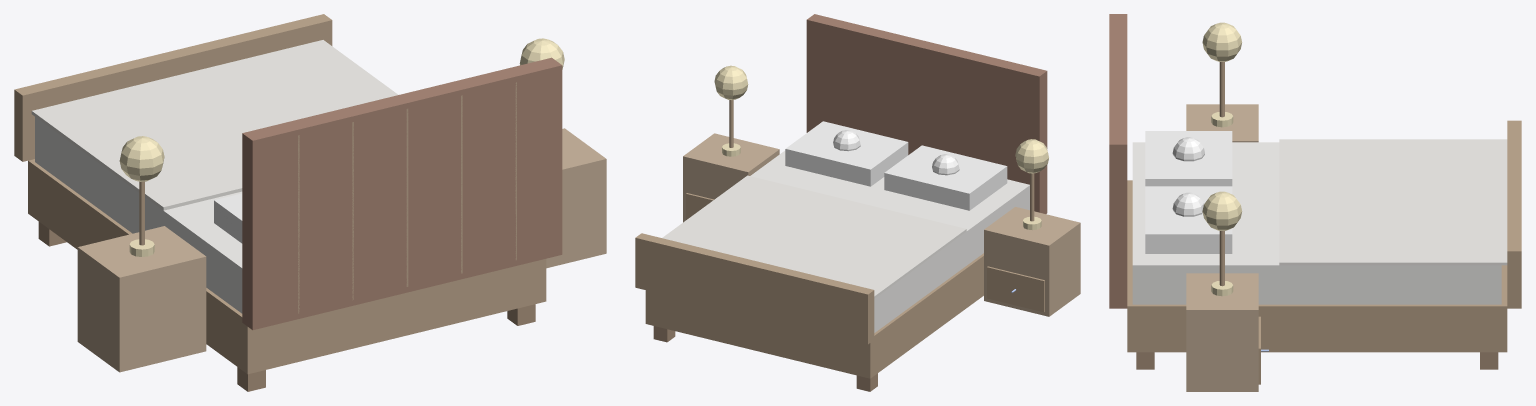
File: bed.glb
3 views of the same model, side by side, from view 1: azimuth 30°, elevation 25°; view 2: azimuth 150°, elevation 25°; view 3: azimuth 270°, elevation 25° (orthographic). The views are drawn at different scales.
Parts seen in each view (by area): view 1: Bed; view 2: Bed; view 3: Bed.
Part boxes in pixels (x1=…): Bed: x1=14, y1=14, x2=606, y2=391; Bed: x1=635, y1=14, x2=1080, y2=391; Bed: x1=1109, y1=14, x2=1521, y2=391.
Bounding box in the file's own units: 2.69 × 1.4 × 2.28.
